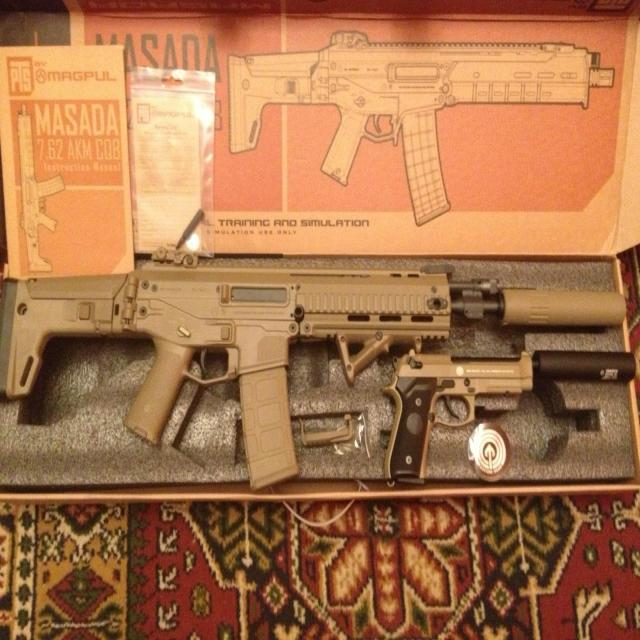firearm: (7, 242, 626, 492), (227, 31, 614, 226)
pistol: (382, 347, 635, 483)
